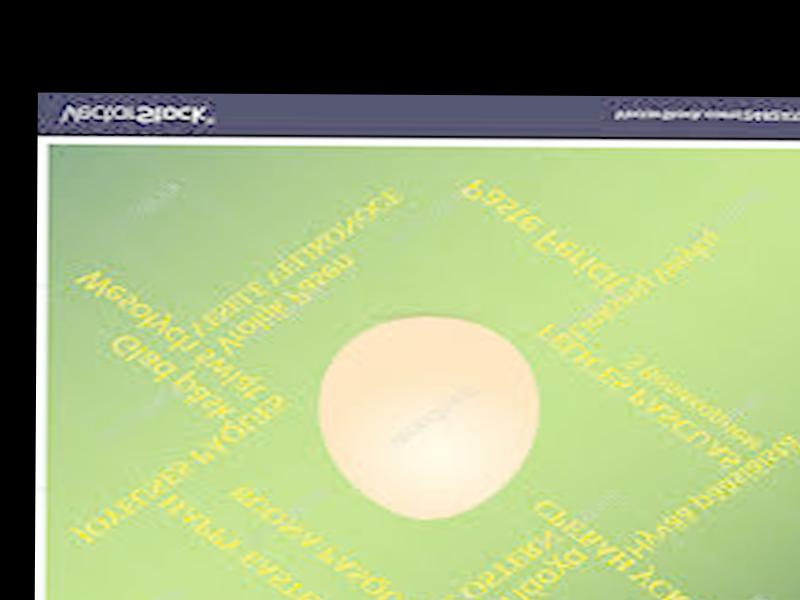Eggs: (320, 317, 540, 514)
